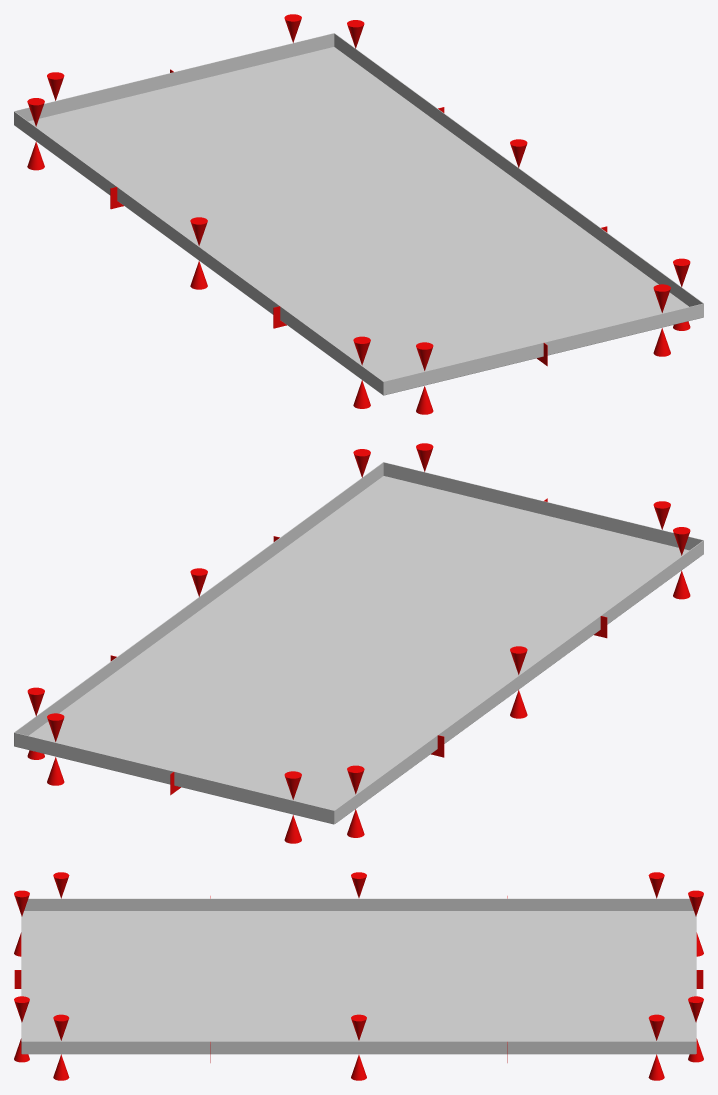
3 views of the same model, one above another, from view 1: azimuth 30°, elevation 25°; view 2: azimuth 150°, elevation 25°; view 3: azimuth 270°, elevation 25° (orthographic). The views are drawn at different scales.
Visible parts, largest first — view 1: 3DGeom-25; view 2: 3DGeom-25; view 3: 3DGeom-25.
Part boxes in pixels (bbox=[...]): 3DGeom-25: bbox=[14, 33, 703, 395]; 3DGeom-25: bbox=[14, 462, 703, 824]; 3DGeom-25: bbox=[21, 898, 696, 1054].
Size of the model in its own units: 0.6651 by 0.1234 by 1.3.
